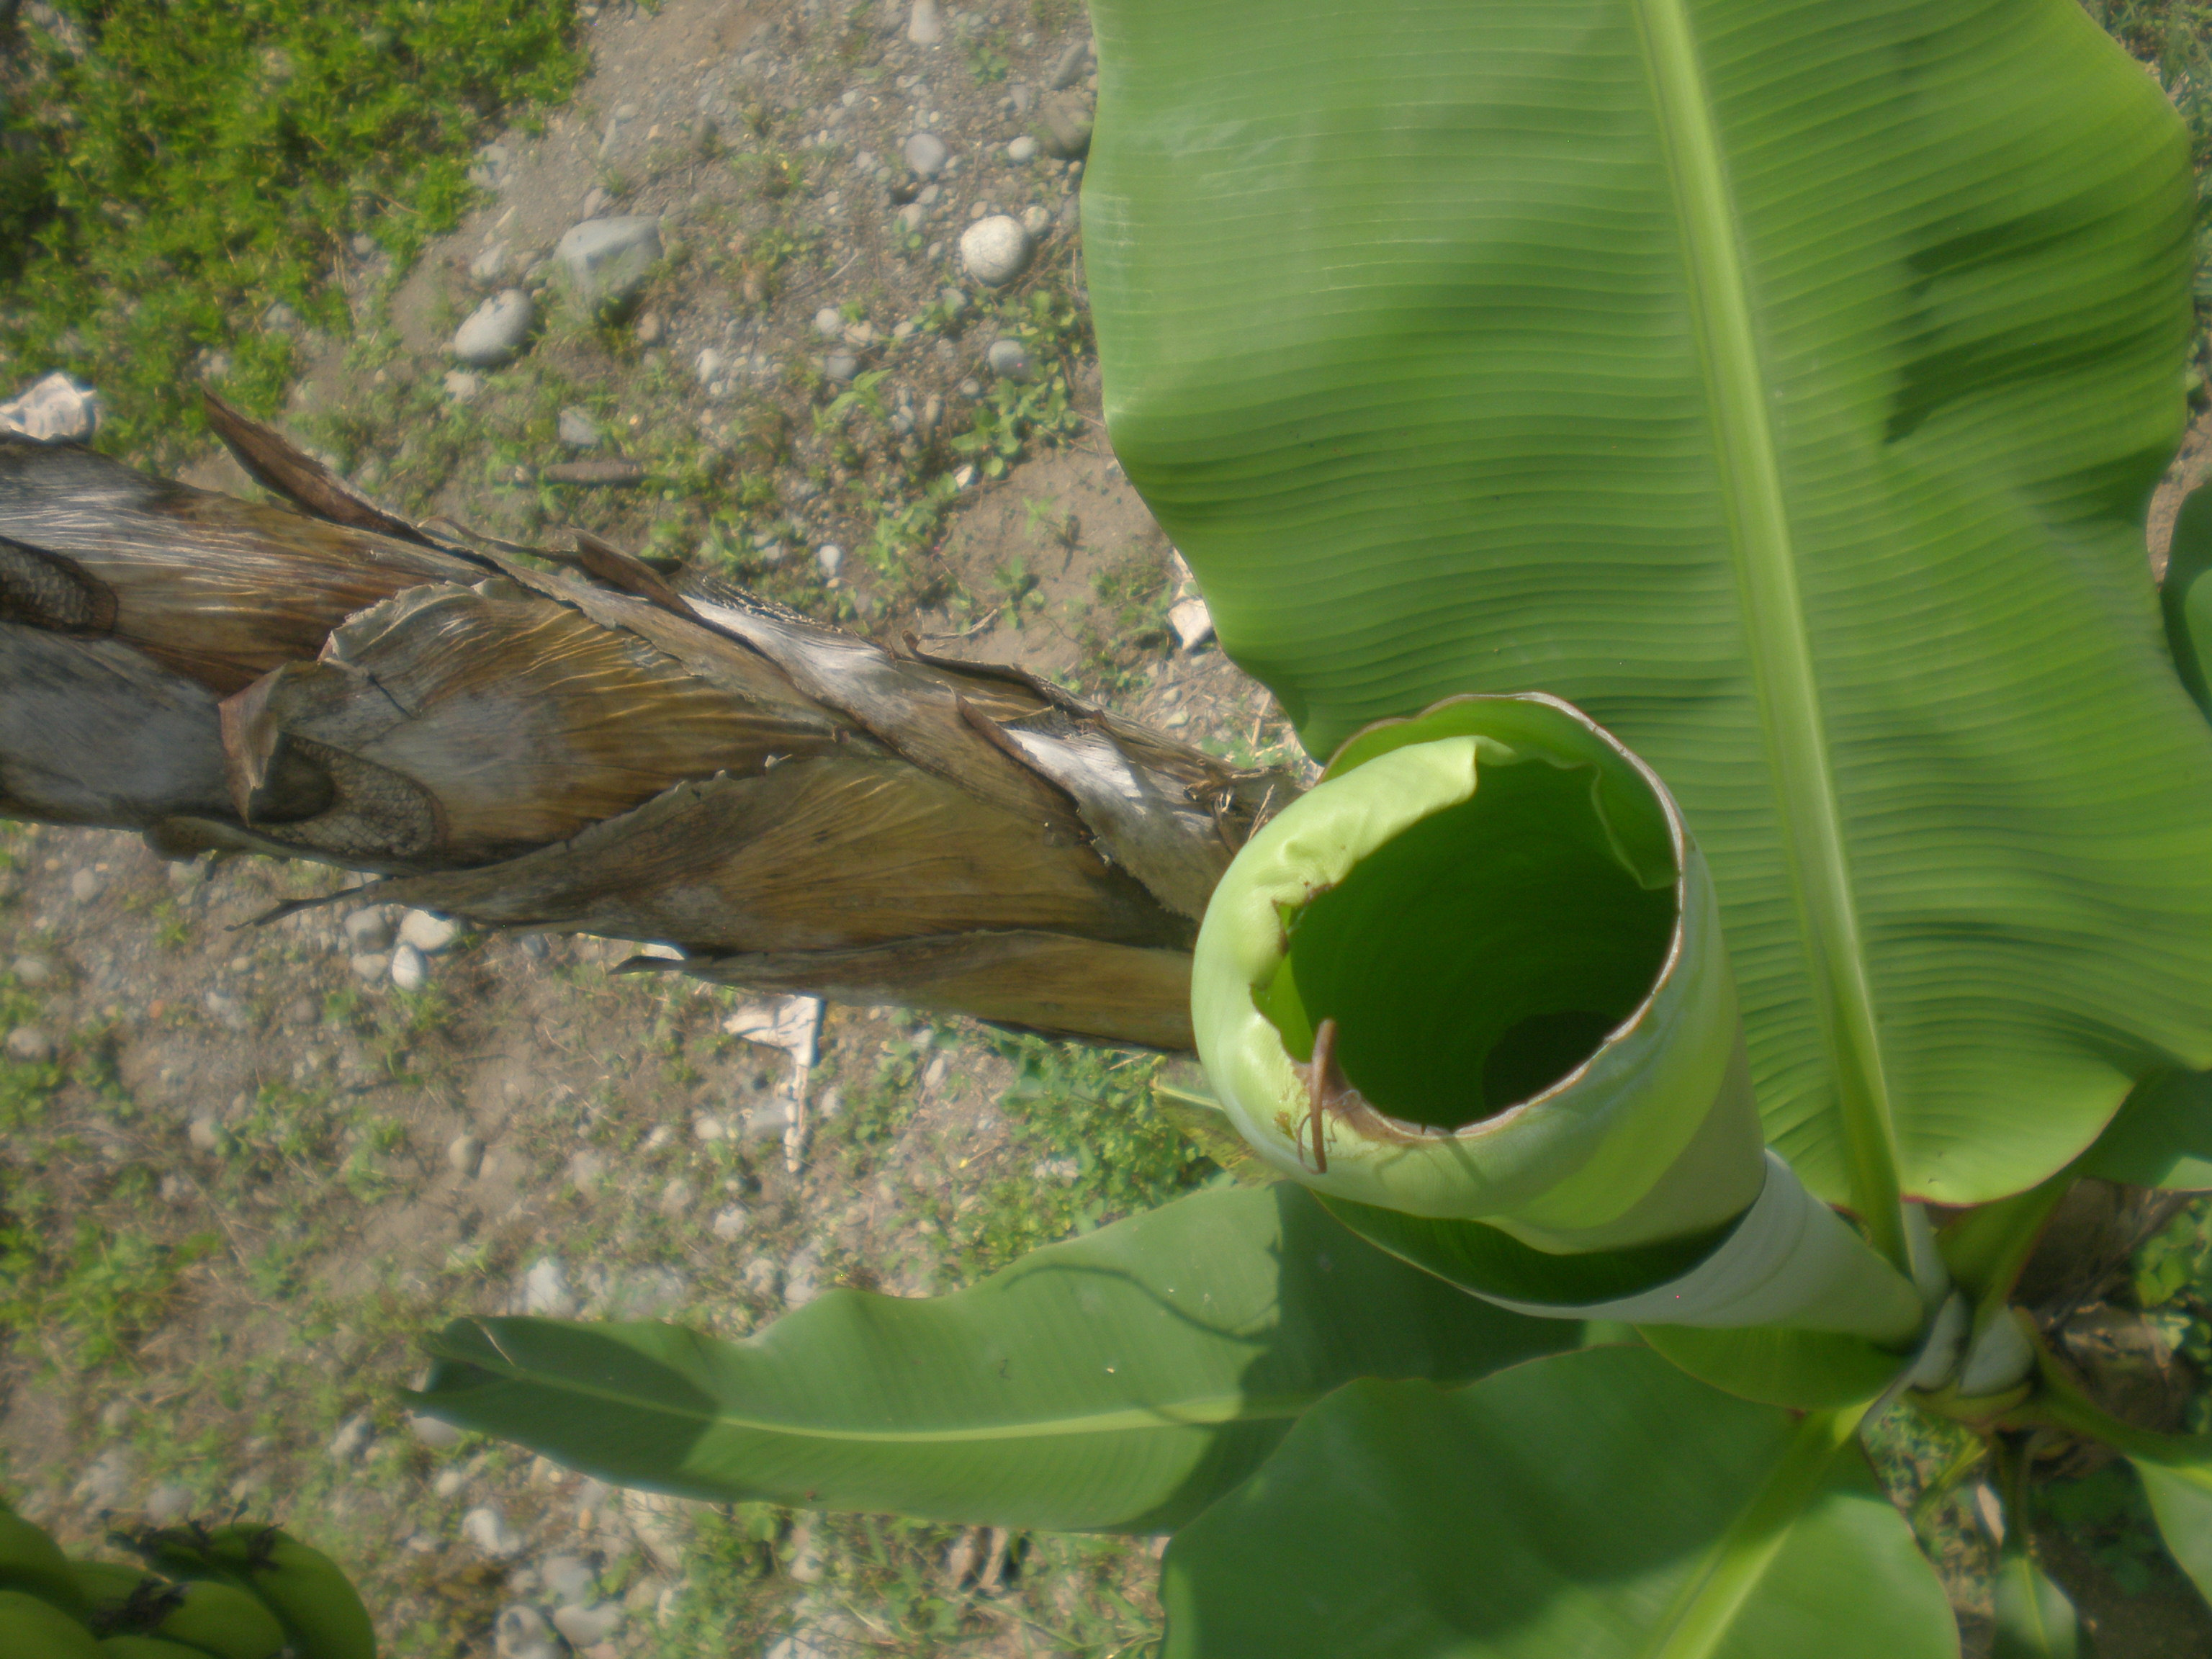candleleafs: (1186, 685, 1902, 1352)
